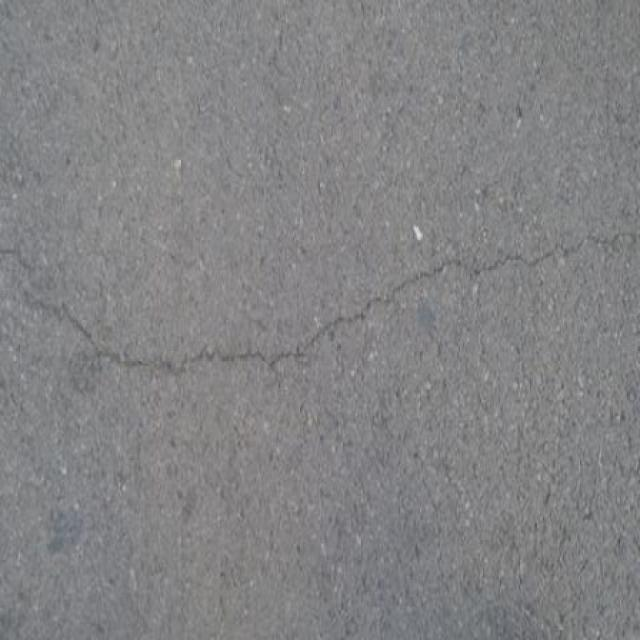Horizontal Crack: (2, 222, 637, 381)
